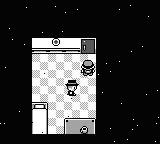main: (81, 61, 94, 76)
no-caminable: (1, 37, 160, 143), (0, 1, 159, 38), (32, 38, 80, 53), (32, 103, 48, 134), (64, 119, 95, 134)
npc: (66, 80, 78, 96)
puerta: (82, 39, 95, 53)
